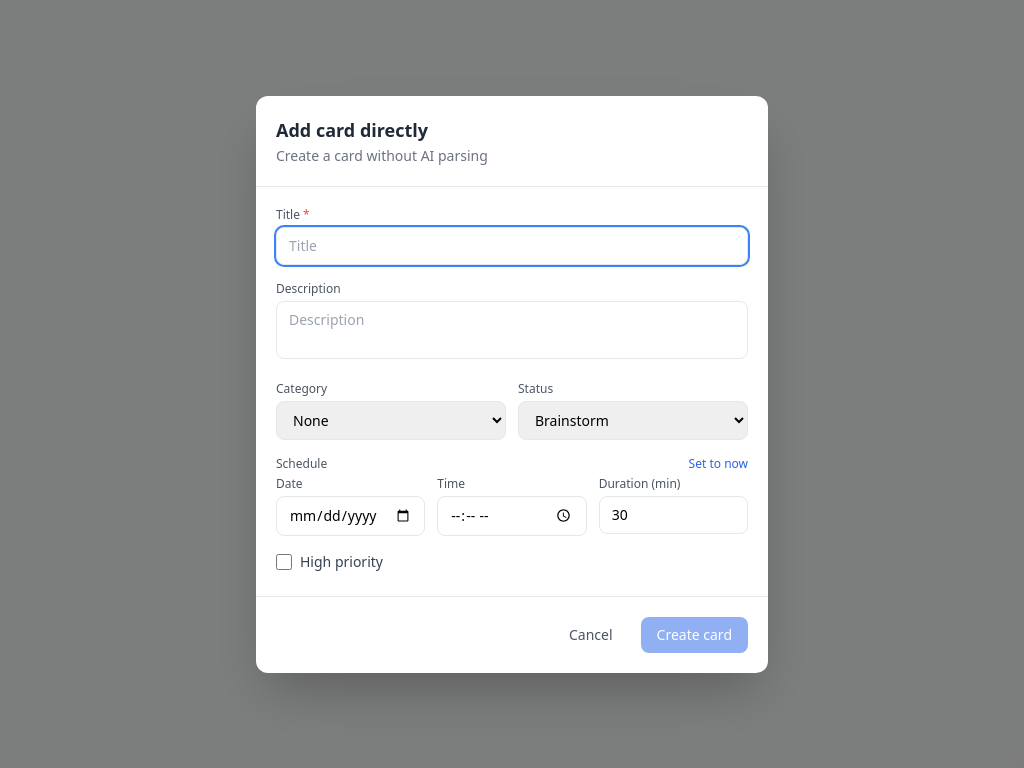
Test: QuickAddCard › enables the Create button once a title is typed
Type "My new card" into the field with placeholder "Title" at x=512, y=246, box [276,226,748,264]
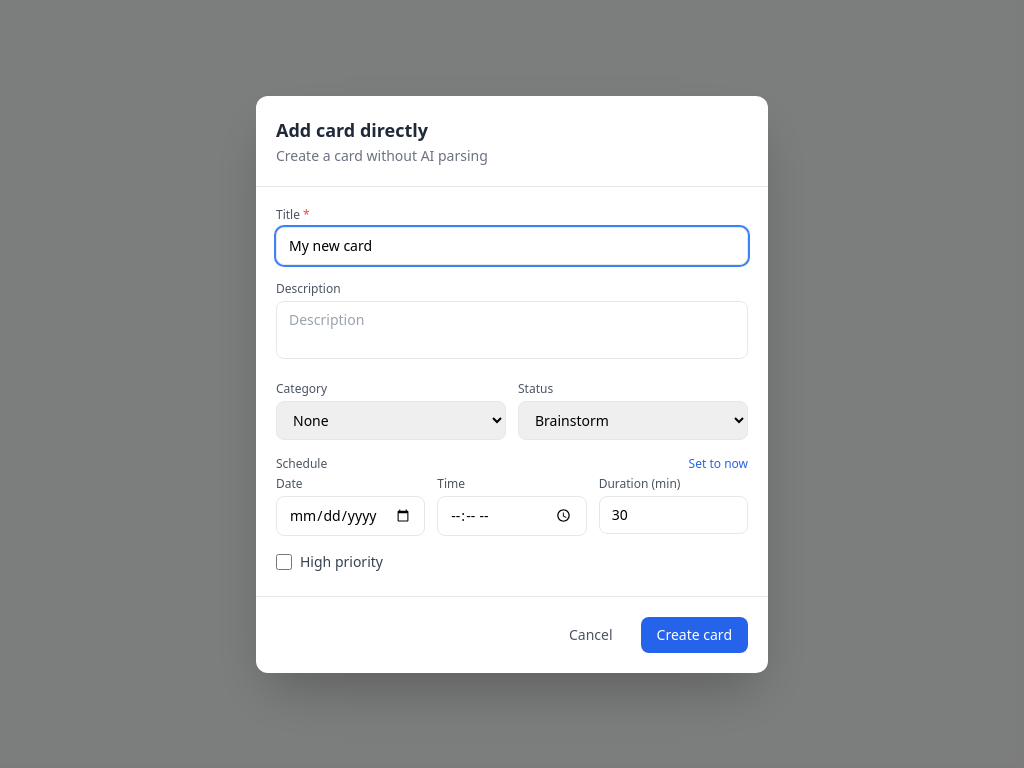
Check: the button "Create card" is enabled, box [641,616,748,652]
